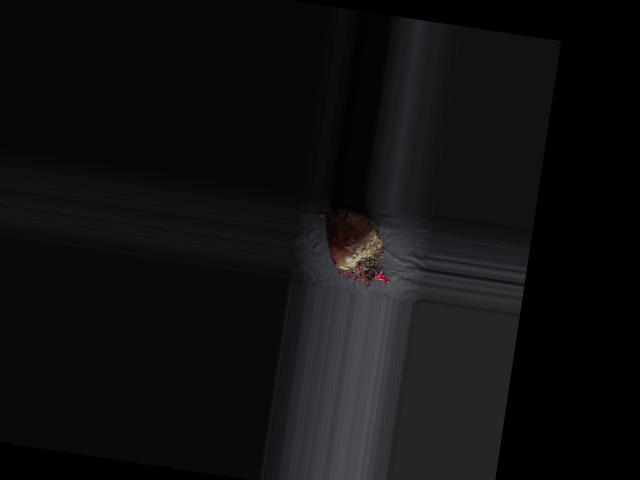beet: (305, 205, 400, 289)
